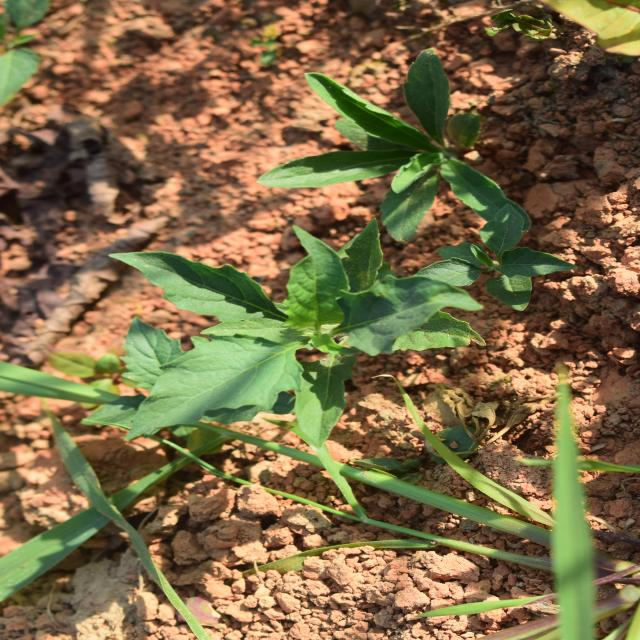Black_nightshade: (220, 138, 412, 417)
